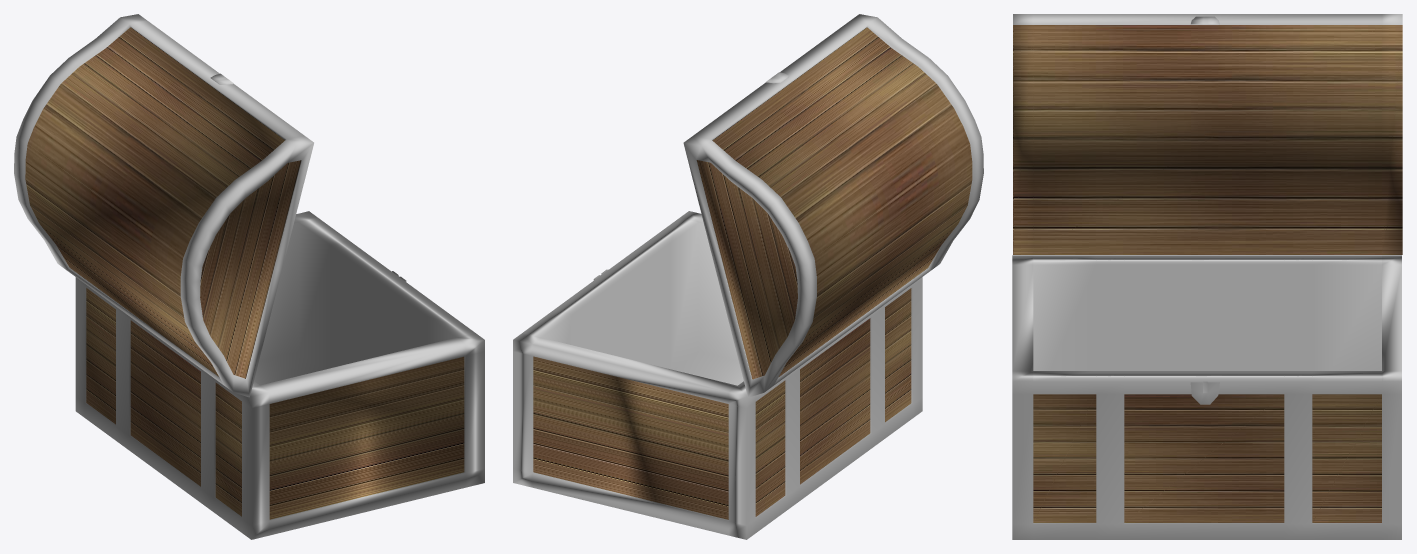
The model's file is coffre_trésor_objet.fbx.
3 views of the same model, side by side, from view 1: azimuth 30°, elevation 25°; view 2: azimuth 150°, elevation 25°; view 3: azimuth 270°, elevation 25° (orthographic). The views are drawn at different scales.
Parts seen in each view (by area): view 1: Cube, Plane_001; view 2: Cube, Plane_001; view 3: Cube, Plane_001.
Part boxes in pixels (box(x1,y1,x2,y2)): Cube: box(75, 211, 484, 539); Plane_001: box(14, 14, 313, 397); Cube: box(513, 211, 922, 539); Plane_001: box(683, 14, 983, 397); Cube: box(1012, 255, 1401, 539); Plane_001: box(1013, 14, 1402, 254).
Bounding box in the file's own units: 2.01 × 2.48 × 2.06.
